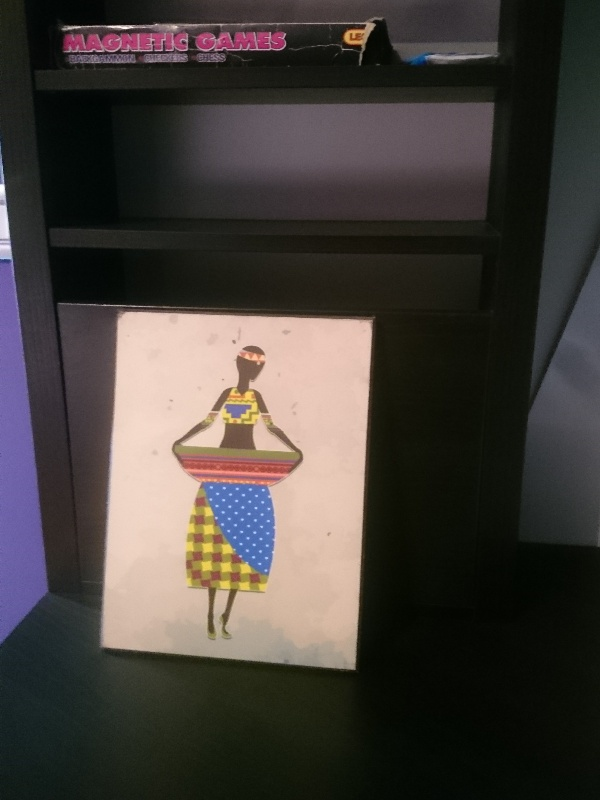my image: (102, 318, 370, 662)
